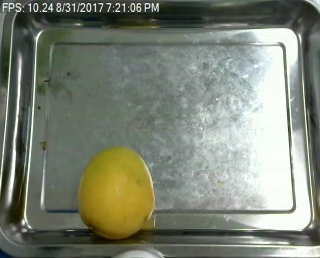Mango: (74, 145, 156, 242)
